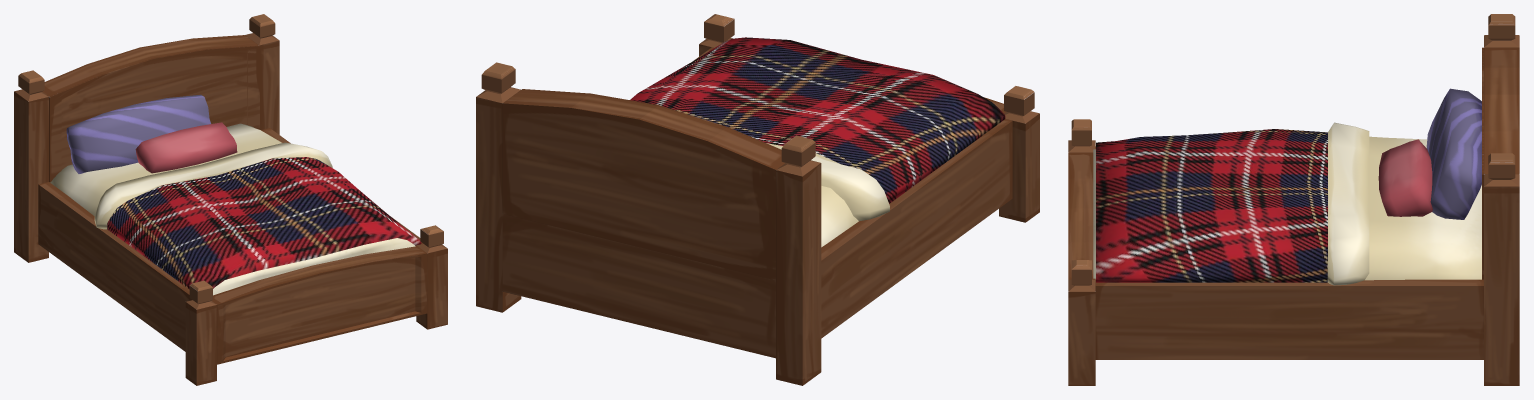
The model's file is Bed.fbx.
The picture shows the model from 3 angles, left to right: view 1: azimuth 30°, elevation 25°; view 2: azimuth 150°, elevation 25°; view 3: azimuth 270°, elevation 25°; orthographic projection. The views are drawn at different scales.
Parts seen in each view (by area): view 1: Bed; view 2: Bed; view 3: Bed.
Part boxes in pixels (left/top/right/bottom): Bed: left=14, top=14, right=447, bottom=385; Bed: left=476, top=14, right=1039, bottom=385; Bed: left=1068, top=14, right=1519, bottom=385.
Bounding box in the file's own units: 209 × 143 × 263.
5 materials, 5 textured.
